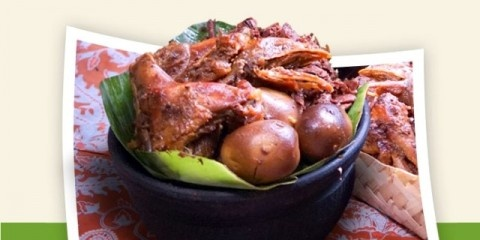gudeg: (117, 16, 358, 194)
